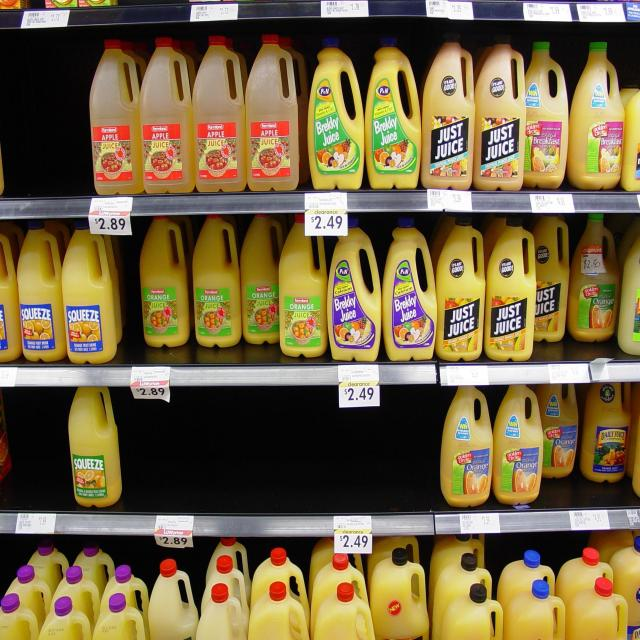void: (126, 402, 443, 512), (4, 50, 91, 189), (11, 395, 70, 512)
